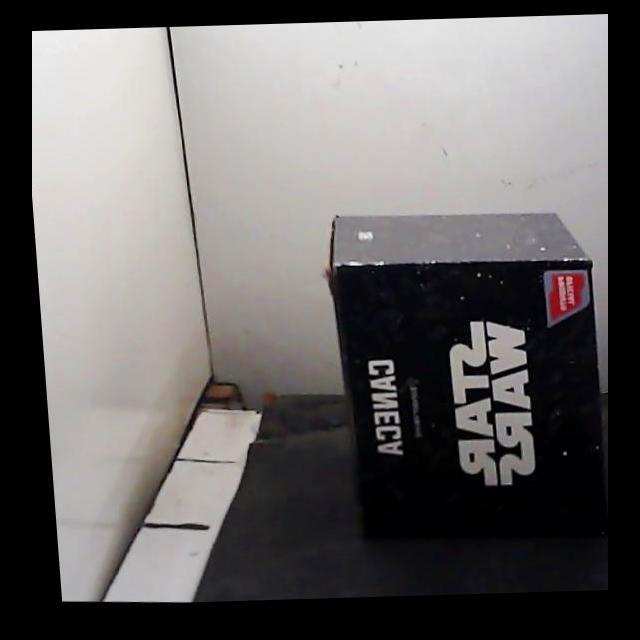papel: (330, 215, 605, 535)
